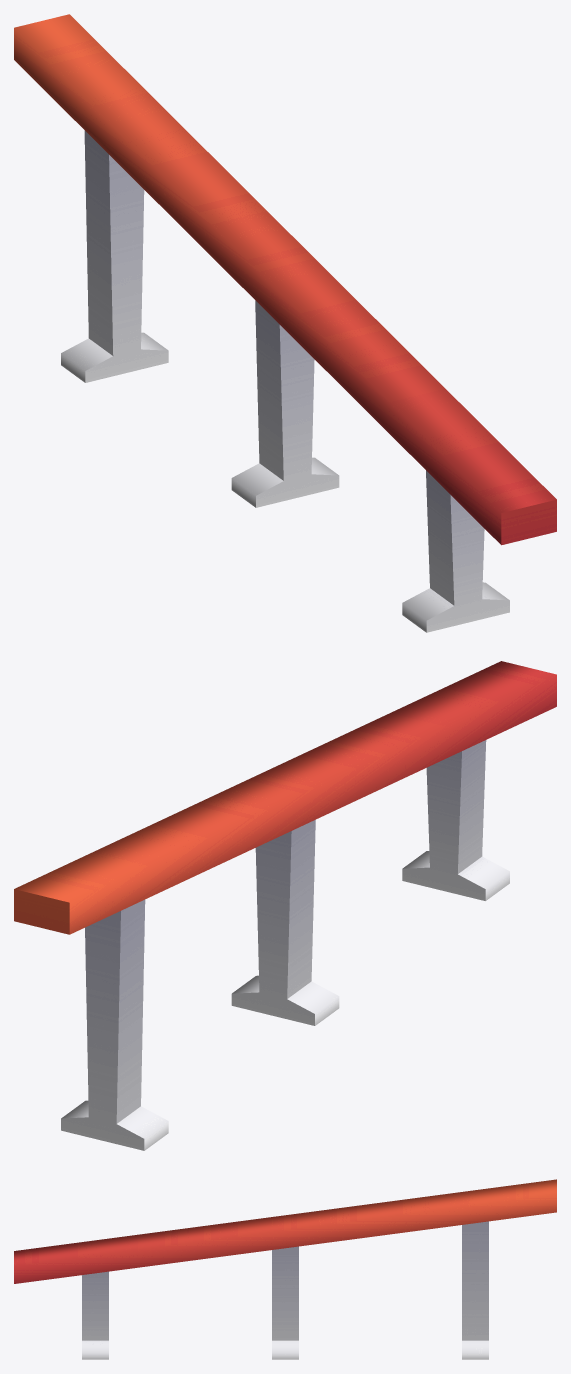
Rendered from rail-slope_lev2.glb.
3 views of the same model, one above another, from view 1: azimuth 30°, elevation 25°; view 2: azimuth 150°, elevation 25°; view 3: azimuth 270°, elevation 25° (orthographic). The views are drawn at different scales.
Parts seen in each view (by area): view 1: rail-slope_lev2; view 2: rail-slope_lev2; view 3: rail-slope_lev2.
Part boxes in pixels (x1,y1,x2,y2): rail-slope_lev2: (14,14,556,632); rail-slope_lev2: (14,661,556,1150); rail-slope_lev2: (14,1179,556,1359).
Size of the model in its own units: 0.3066 by 1.02 by 3.1.
1 material, 1 textured.
